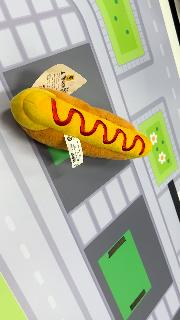hotdog: (10, 87, 152, 161)
